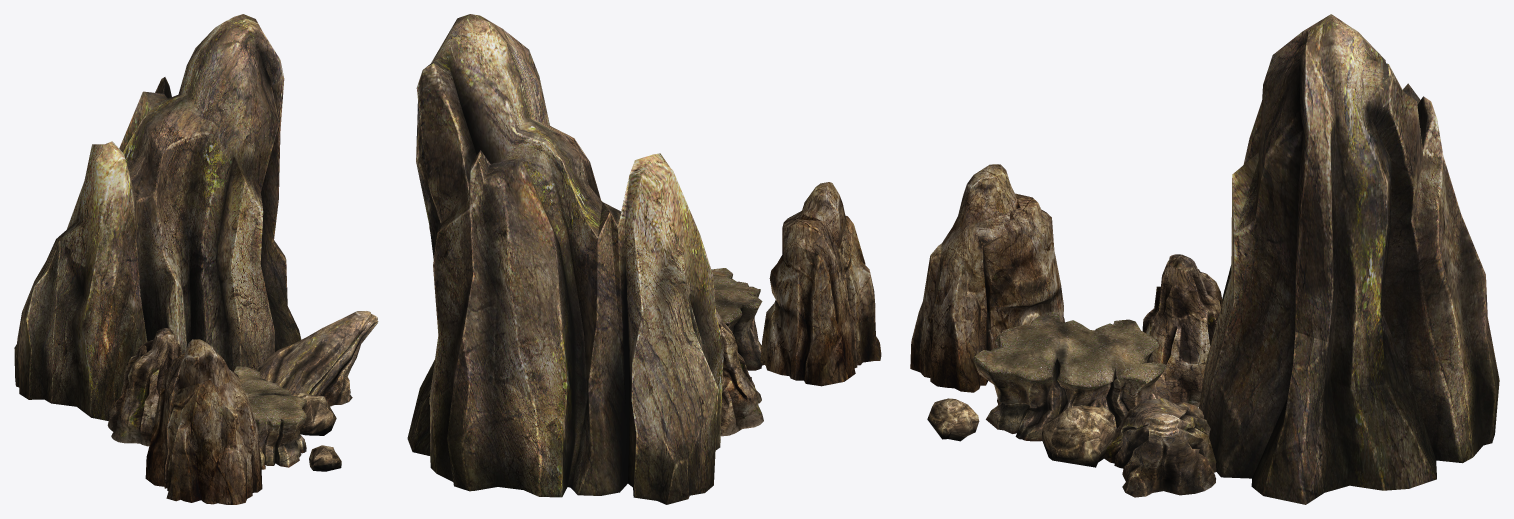
3 views of the same model, side by side, from view 1: azimuth 30°, elevation 25°; view 2: azimuth 150°, elevation 25°; view 3: azimuth 270°, elevation 25° (orthographic). The views are drawn at different scales.
Parts seen in each view (by area): view 1: group1 MeshFBXASC032Object3, group1 st1_MeshFBXASC032Object, group1 MeshFBXASC032Object2, MeshFBXASC032Object group1, group1 st2_MeshFBXASC032Object, group1 MeshFBXASC032Object4, group1 MeshFBXASC032Object1; view 2: group1 MeshFBXASC032Object3, group1 st1_MeshFBXASC032Object, MeshFBXASC032Object group1, group1 st2_MeshFBXASC032Object; view 3: group1 MeshFBXASC032Object3, group1 st1_MeshFBXASC032Object, group1 st2_MeshFBXASC032Object, group1 MeshFBXASC032Object2, MeshFBXASC032Object group1, group1 MeshFBXASC032Object4, group1 MeshFBXASC032Object1.
Part boxes in pixels (x1,y1,x2,y2): group1 MeshFBXASC032Object3: (14,14,301,420); group1 st1_MeshFBXASC032Object: (145,339,262,504); group1 MeshFBXASC032Object2: (256,311,378,406); MeshFBXASC032Object group1: (107,327,181,446); group1 st2_MeshFBXASC032Object: (234,366,306,469); group1 MeshFBXASC032Object4: (291,392,336,435); group1 MeshFBXASC032Object1: (309,445,341,471); group1 MeshFBXASC032Object3: (407,14,724,504); group1 st1_MeshFBXASC032Object: (760,182,881,386); MeshFBXASC032Object group1: (715,307,763,436); group1 st2_MeshFBXASC032Object: (711,268,763,370); group1 MeshFBXASC032Object3: (1199,14,1499,504); group1 st1_MeshFBXASC032Object: (910,164,1064,392); group1 st2_MeshFBXASC032Object: (973,311,1171,441); group1 MeshFBXASC032Object2: (1104,398,1216,497); MeshFBXASC032Object group1: (1142,254,1222,407); group1 MeshFBXASC032Object4: (1041,405,1115,467); group1 MeshFBXASC032Object1: (927,398,979,441).
Bounding box in the file's own units: 515 × 593 × 694.
6 materials, 6 textured.
